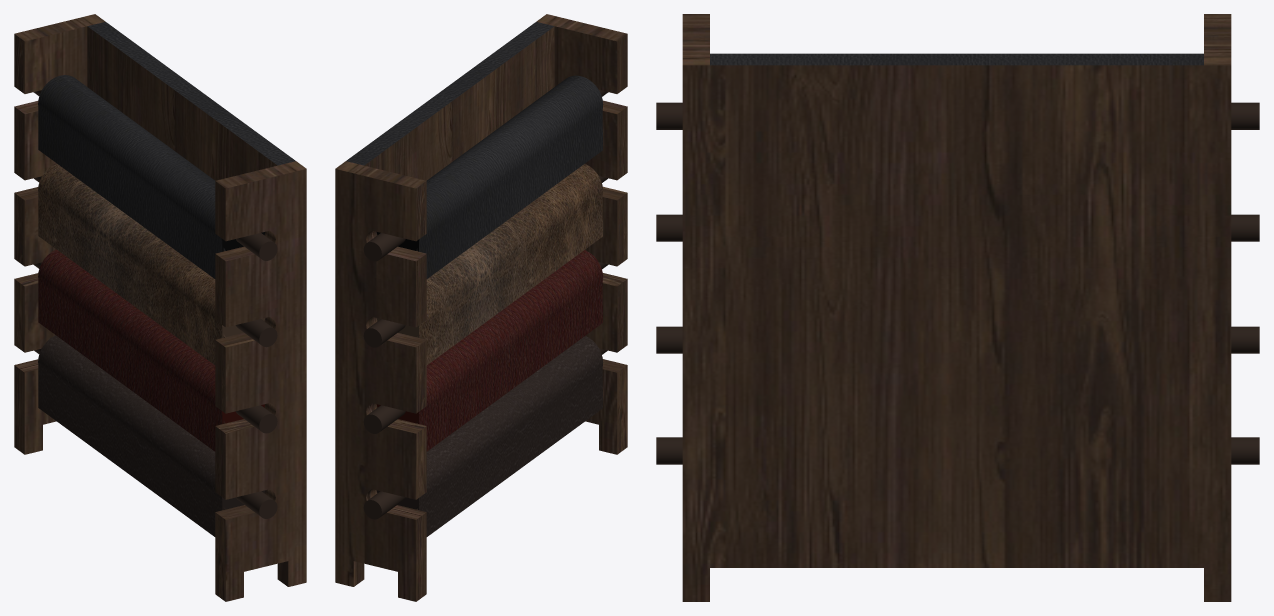
The model's file is F_SkinDesk.fbx.
3 views of the same model, side by side, from view 1: azimuth 30°, elevation 25°; view 2: azimuth 150°, elevation 25°; view 3: azimuth 270°, elevation 25° (orthographic). The views are drawn at different scales.
Visible parts, largest first — view 1: F_SkinDesk; view 2: F_SkinDesk; view 3: F_SkinDesk.
Part boxes in pixels (x1,y1,x2,y2): F_SkinDesk: (14, 14, 306, 601); F_SkinDesk: (335, 14, 627, 601); F_SkinDesk: (656, 14, 1259, 601).
Size of the model in its own units: 44.26 by 216 by 220.
Materials: 1 (1 with a texture image).
